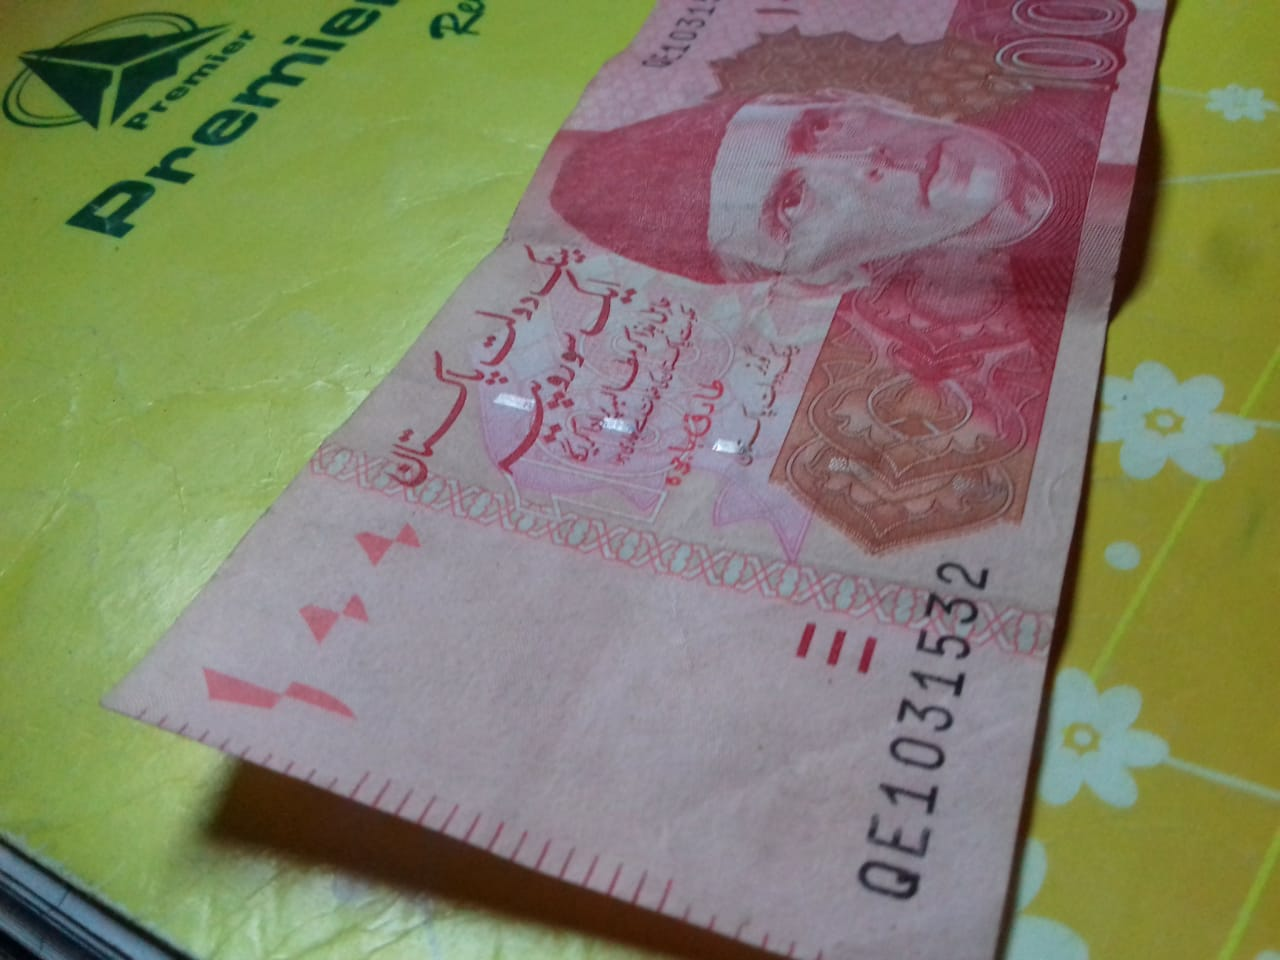100 rupee: (70, 18, 1185, 960)
